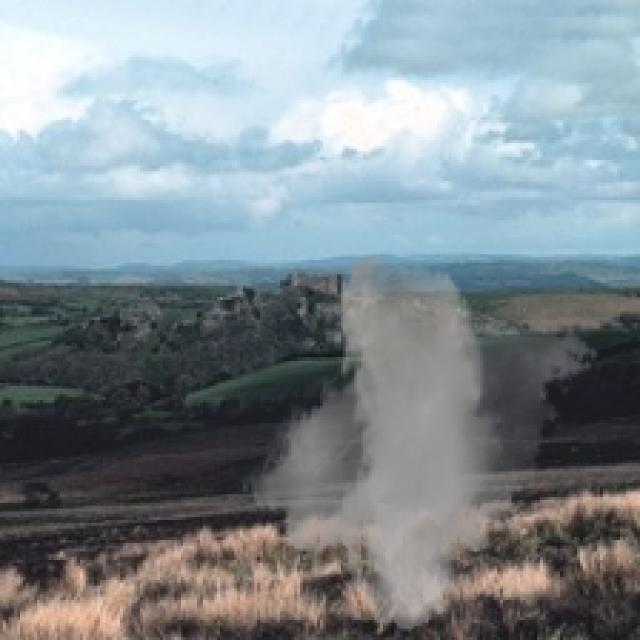smoke: (240, 252, 600, 632)
